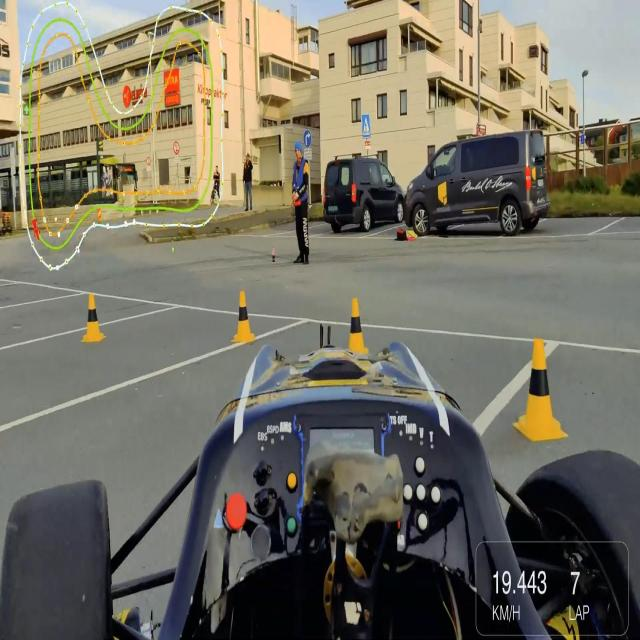yellow_cone: (519, 333, 562, 442), (228, 282, 262, 353), (340, 294, 378, 356), (79, 284, 111, 356)
